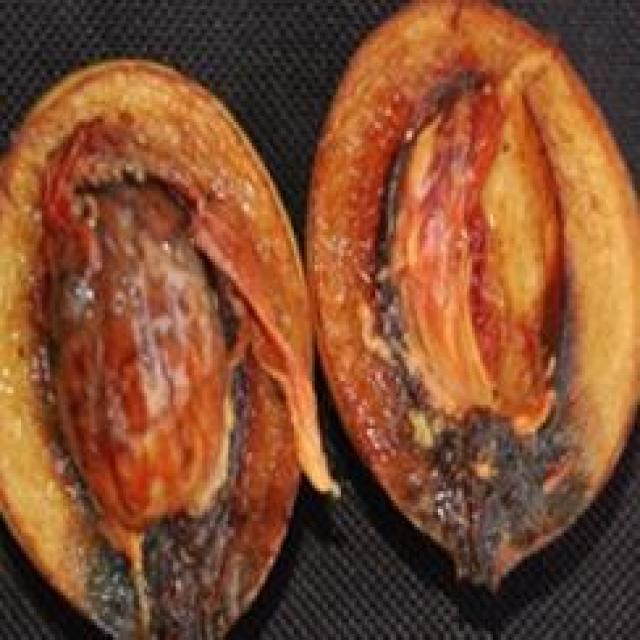damaged: (0, 60, 336, 637), (307, 0, 637, 583)
